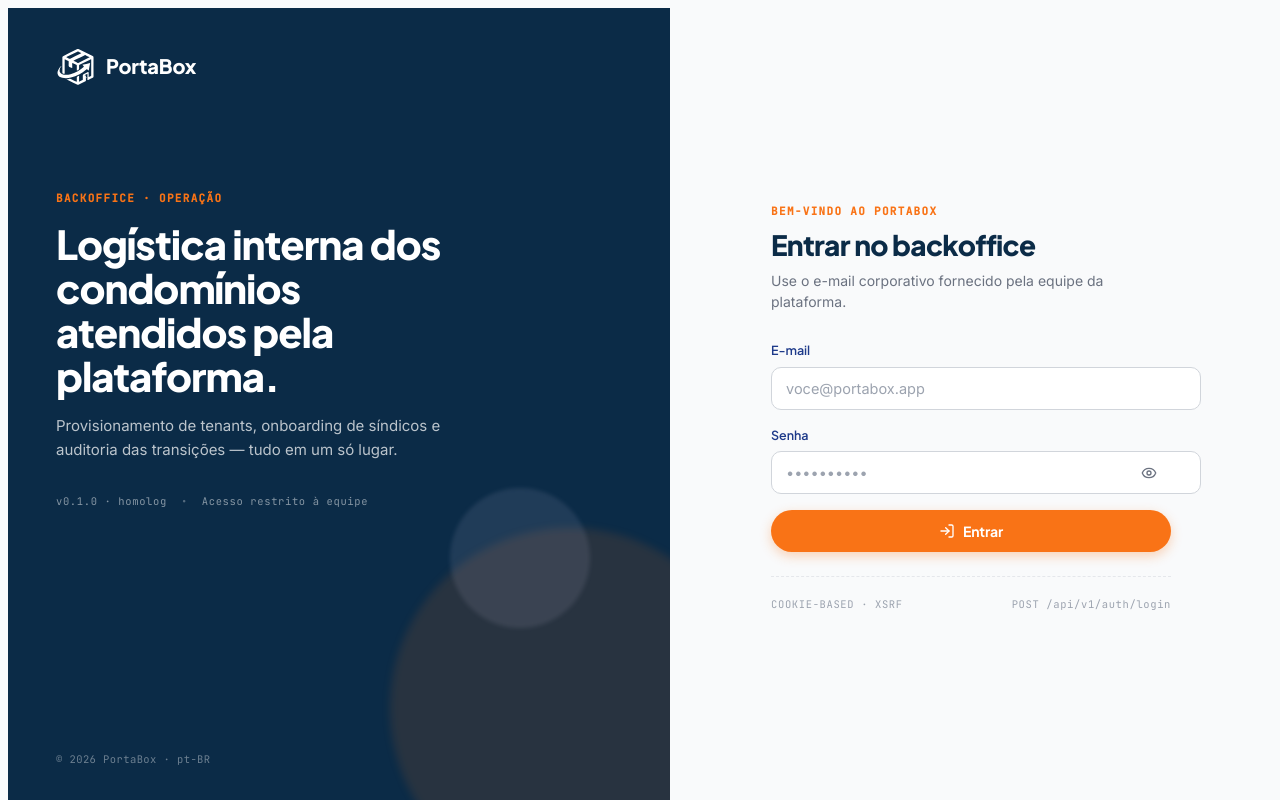
Test: Auth integration › navigates to /condominios after successful login
Expected: the heading "Entrar no backoffice" is shown, [771,227,1035,262]
Type "op@example.com" into the field labelled "E-mail" at (986, 388), box [771,367,1201,410]
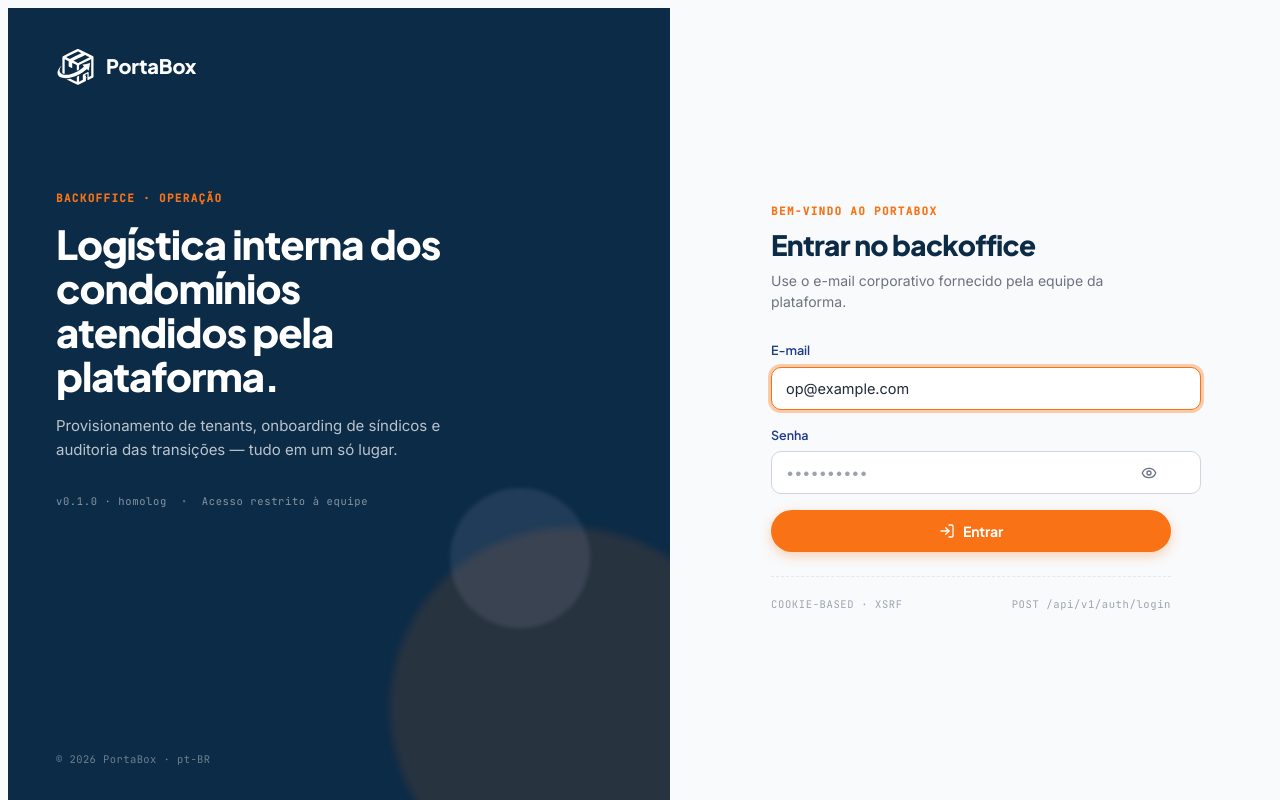
Type "S3cr3t!" into the password field labelled "Senha" at (986, 473), box [771,451,1201,494]
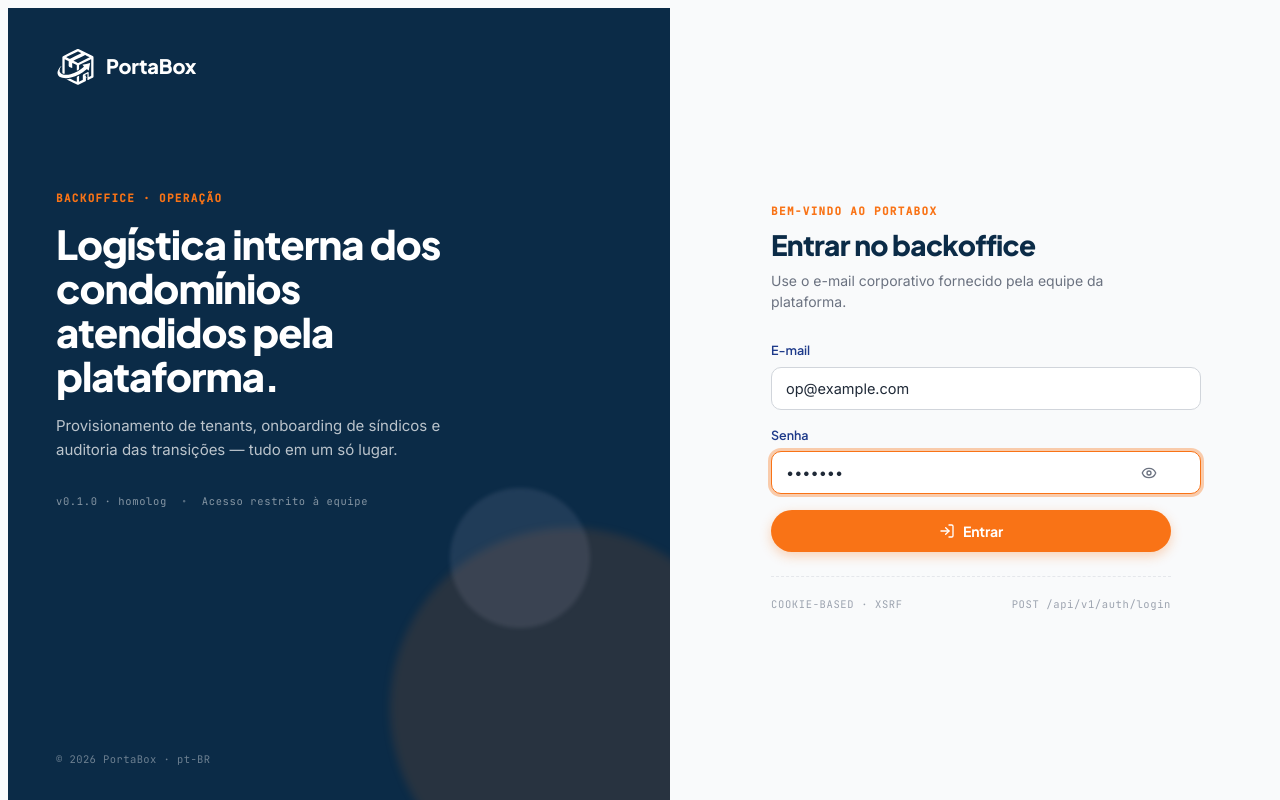
Click the button "Entrar" at (971, 531), box [771,510,1171,552]
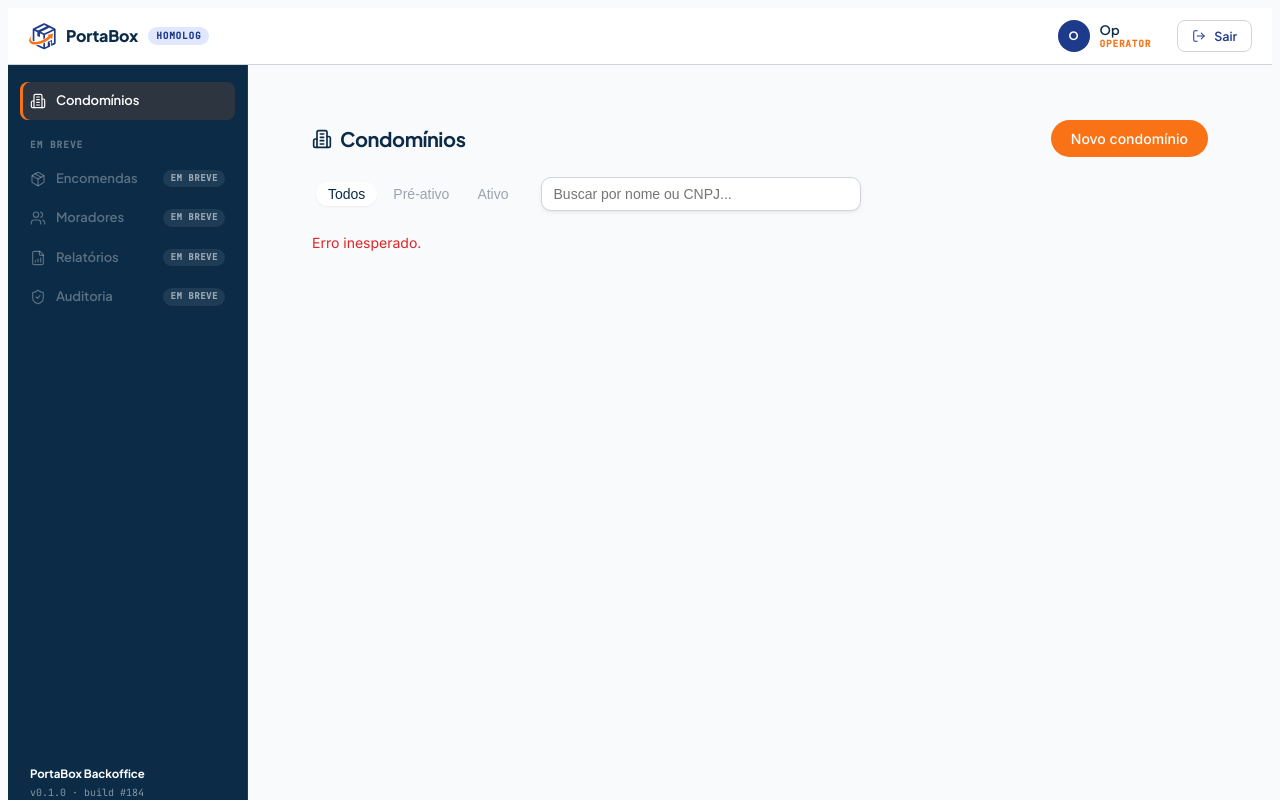
Expected: the heading reads "Condomínios", [340,126,466,150]
